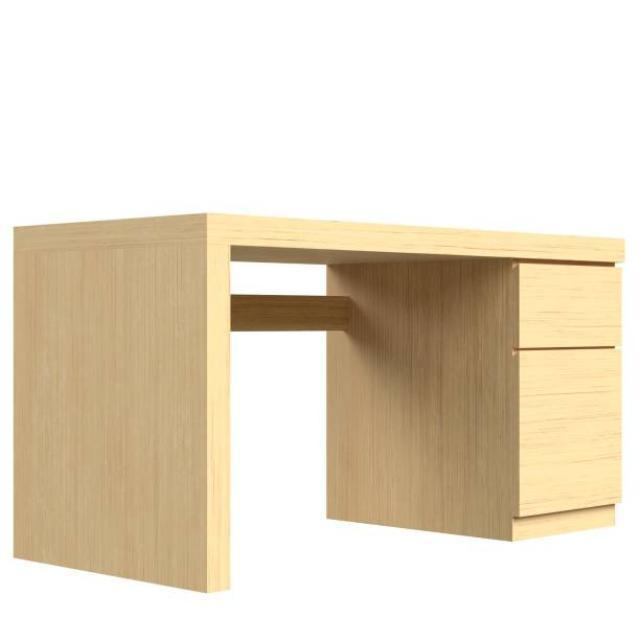table: (12, 210, 626, 593)
